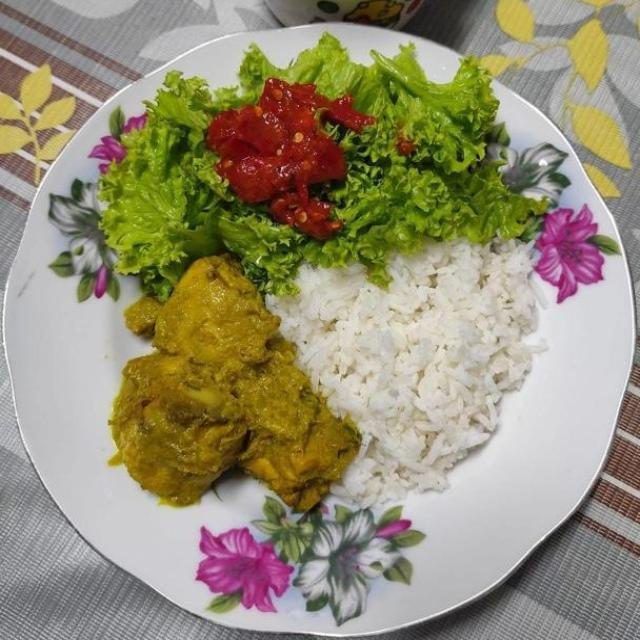Chicken: (110, 258, 368, 517)
Plate: (18, 33, 623, 628)
Rice: (256, 232, 539, 502)
Vegetables: (94, 29, 557, 309)
